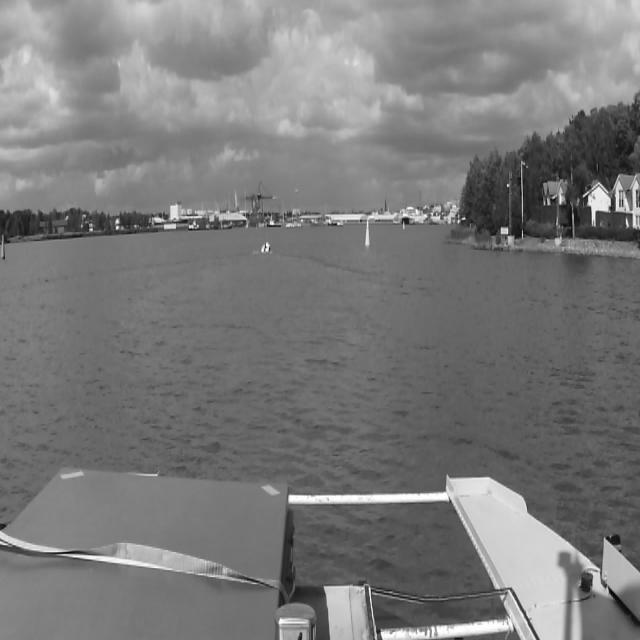buoy: (364, 218, 370, 245), (0, 236, 6, 260)
ship: (262, 241, 272, 255)
